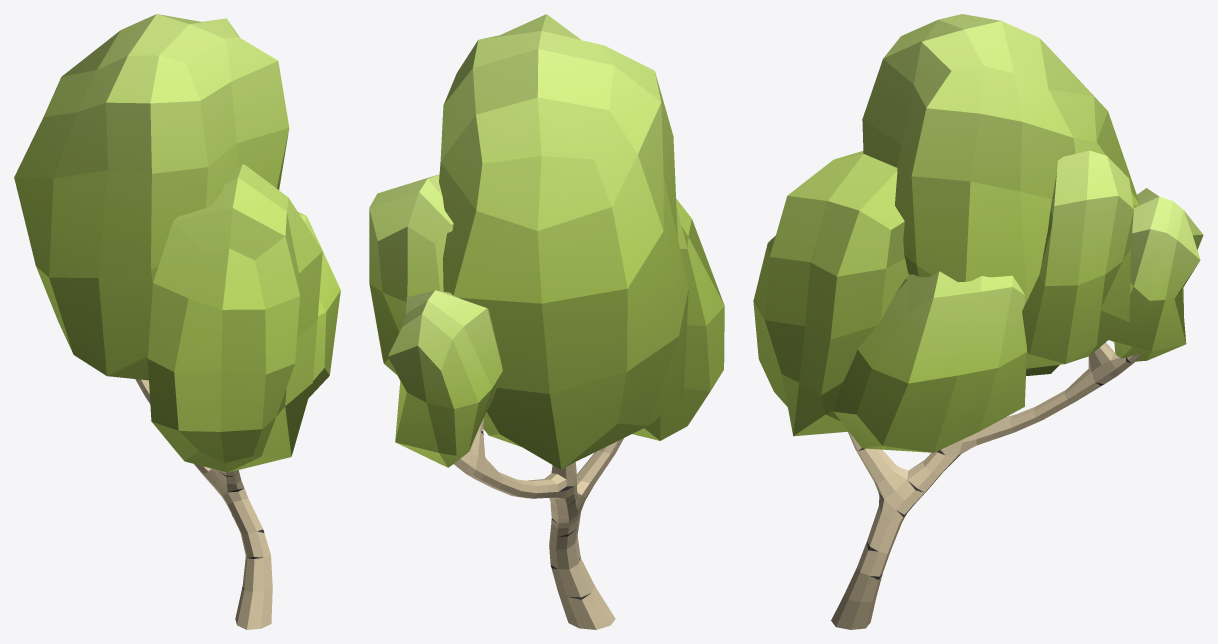
Rendered from Tree1_V1.0.fbx.
3 renders of one model, left to right at view 1: azimuth 30°, elevation 25°; view 2: azimuth 150°, elevation 25°; view 3: azimuth 270°, elevation 25°, orthographic. The views are drawn at different scales.
Parts seen in each view (by area): view 1: Leaves, BirchTree_1_Cube; view 2: Leaves, BirchTree_1_Cube; view 3: Leaves, BirchTree_1_Cube.
Part boxes in pixels (x1,y1,x2,y2): Leaves: [14, 14, 340, 472]; BirchTree_1_Cube: [135, 379, 272, 629]; Leaves: [369, 14, 724, 469]; BirchTree_1_Cube: [454, 418, 623, 629]; Leaves: [753, 14, 1203, 452]; BirchTree_1_Cube: [831, 342, 1140, 629].
Size of the model in its own units: 170 by 357 by 248.
